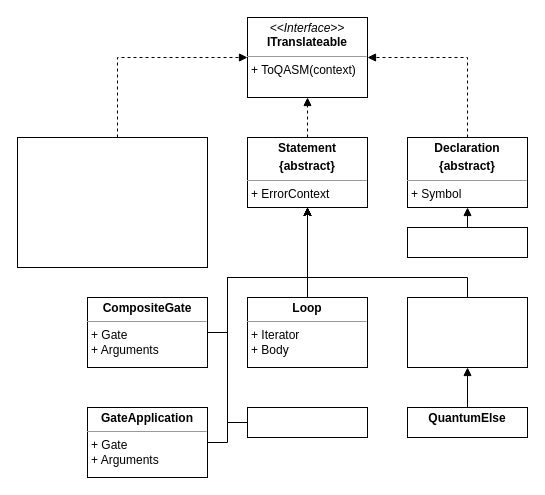
Some shapes in this 545 by 495 pixel diagram are drawn without their labels. Here are the shapes that lost their labels. From the top down, the centre of each, then its label:
At (112,202): "CodeBlock + Translatables + IdMap + Parent + AddTranslatables(Translateable)".
At (467,242): "Register".
At (467,332): "QuantumIf + Guard + Block".
At (307,422): "Skip".
